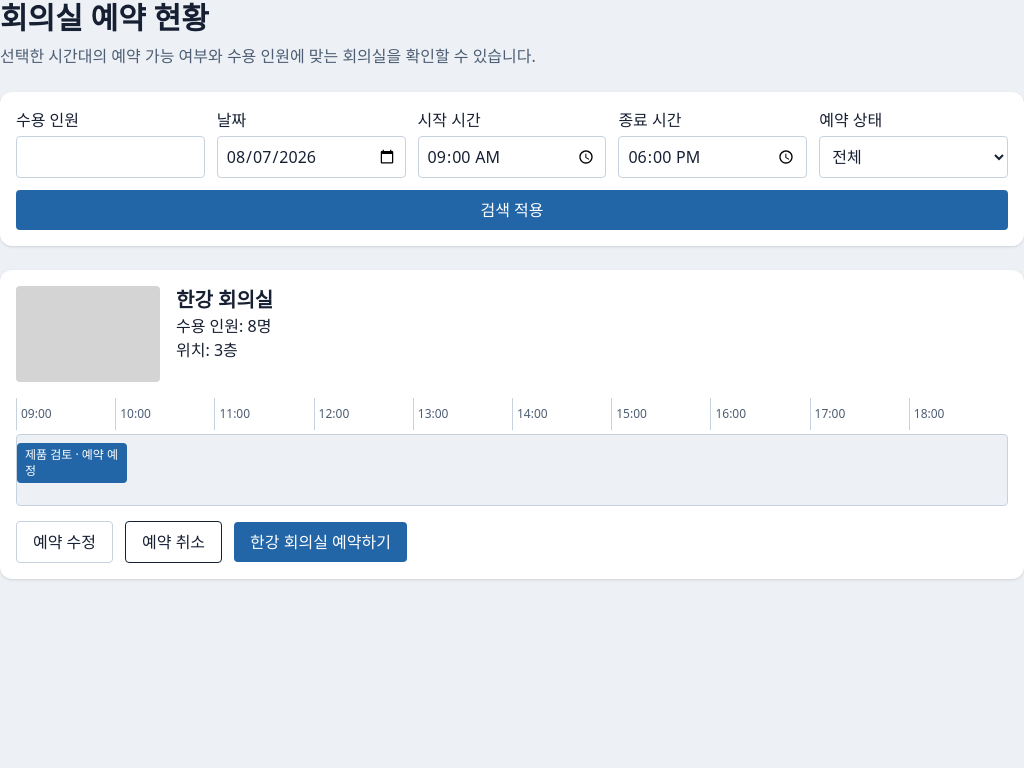
Test case: MeetingRoomPage › keeps the dialog open with an actionable cancellation error for ROOM_RESERVATION_NOT_FOUND
Click the button with aria-label "예약 취소: 제품 검토" at (174, 542), box left=125, top=521, right=222, bottom=563
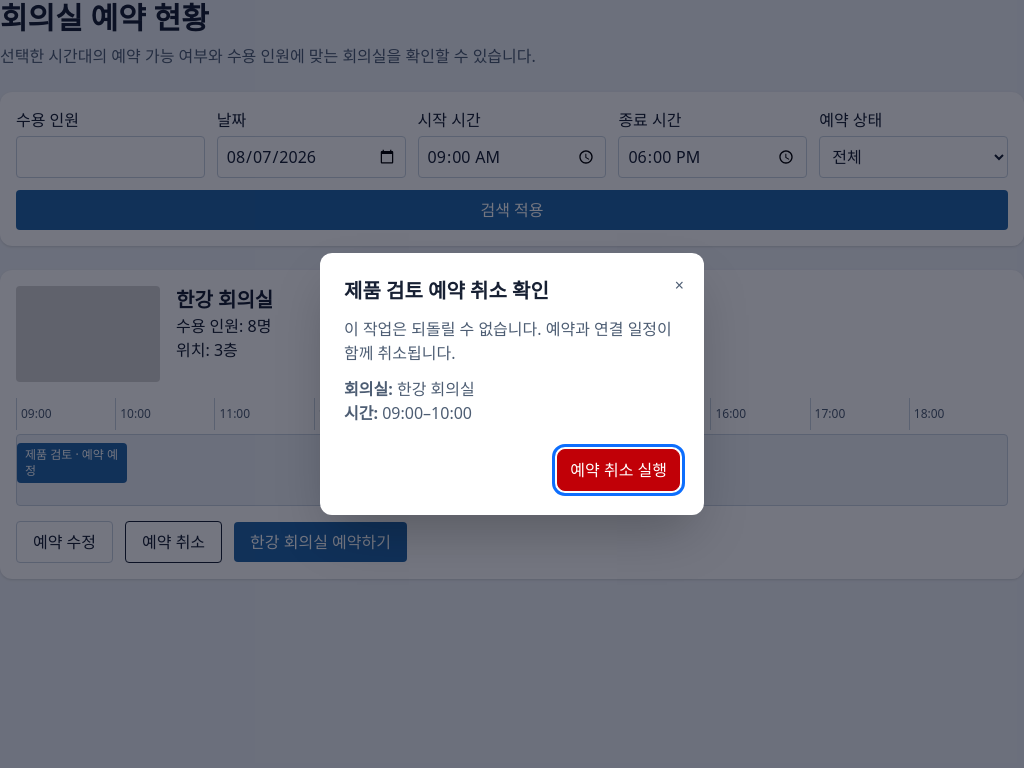
Click the button "예약 취소 실행" at (619, 470), box left=557, top=449, right=680, bottom=491
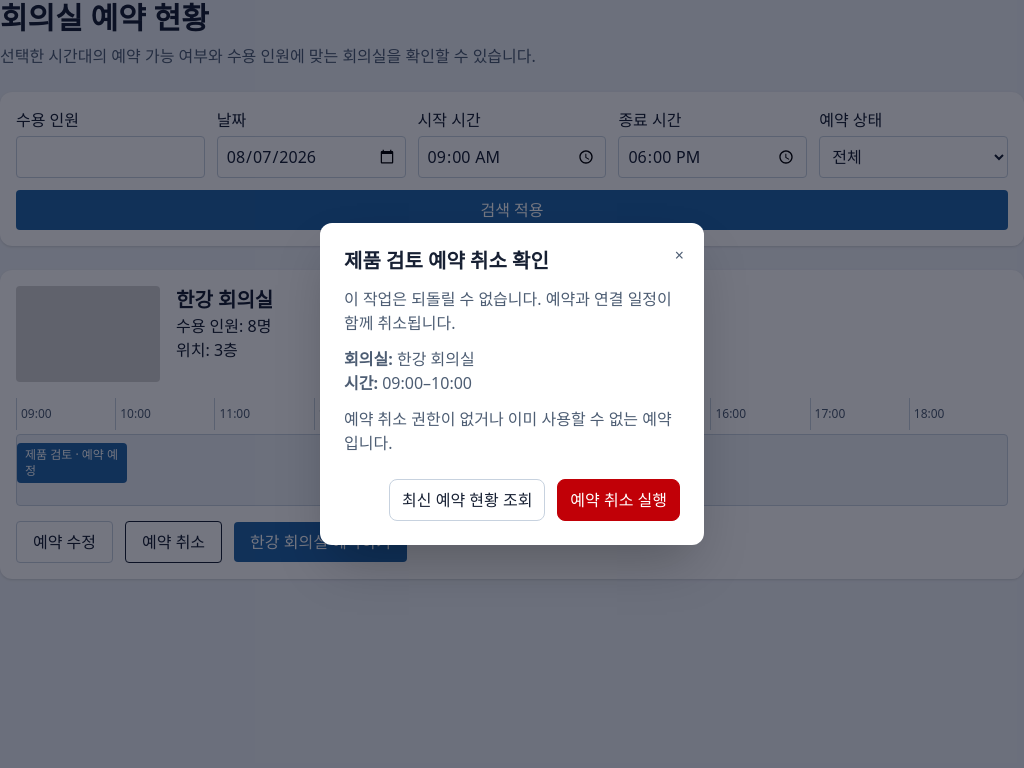
Result: the dialog is shown at left=320, top=223, right=704, bottom=545
Result: the message reads "예약 취소 권한이 없거나 이미 사용할 수 없는 예약입니다." at left=344, top=408, right=672, bottom=454
